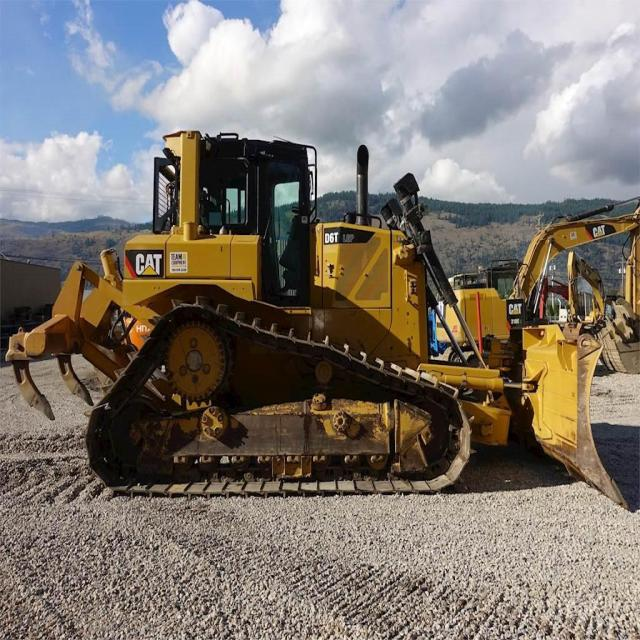Bulldozer: (11, 90, 626, 542)
